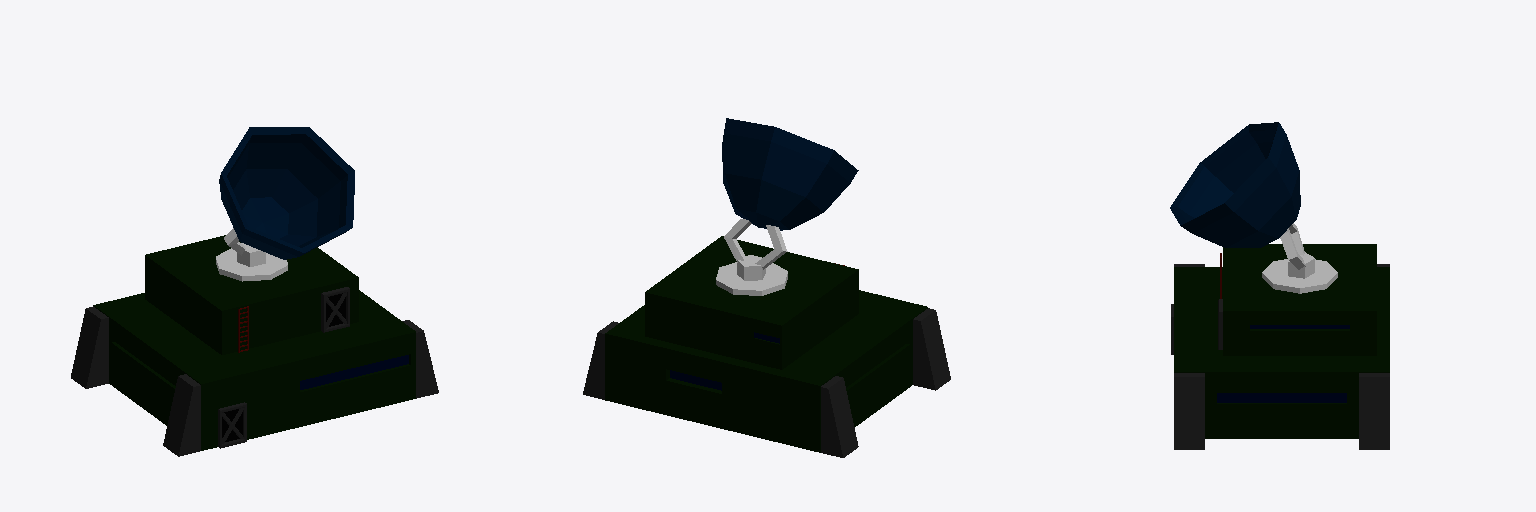
The model's file is RadioStation.obj.
The picture shows the model from 3 angles: view 1: azimuth 30°, elevation 25°; view 2: azimuth 150°, elevation 25°; view 3: azimuth 270°, elevation 25°; orthographic projection.
Parts seen in each view (by area): view 1: RadioStation_Cube.050; view 2: RadioStation_Cube.050; view 3: RadioStation_Cube.050.
Boxes of the visible parts, <box> form: RadioStation_Cube.050: <box>71,127,438,456</box>; RadioStation_Cube.050: <box>583,118,950,457</box>; RadioStation_Cube.050: <box>1170,122,1389,449</box>.
Size of the model in its own units: 19.58 by 18.73 by 14.35.